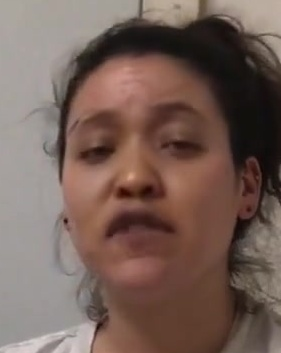eb_f: (65, 99, 212, 170)
